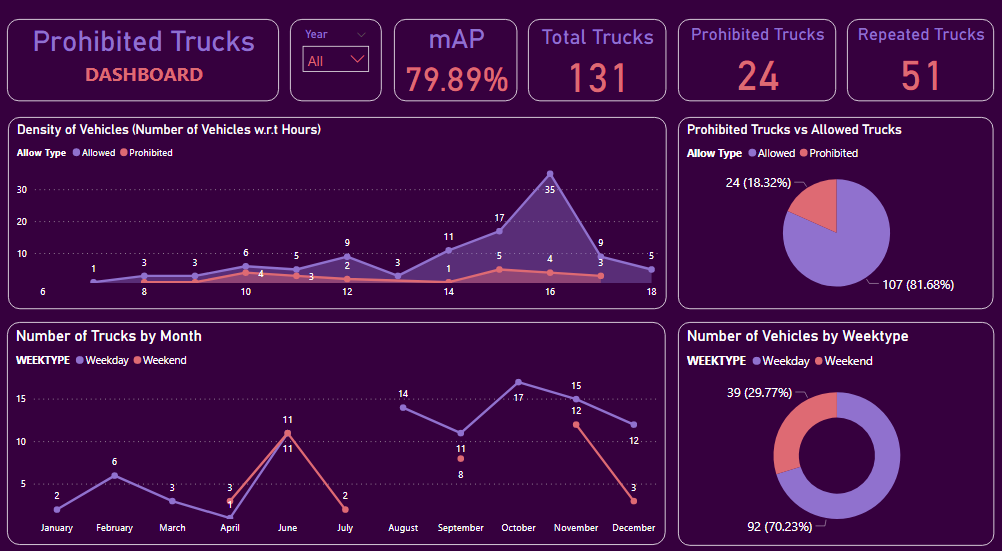

What the dashboard file says about the page in this screenshot:
{"tool":"powerbi","page":{"name":"Prohibited Trucks","canvas":[1280,720],"ordinal":2},"visuals":[{"type":"card","title":"Total Trucks","fields":{"Values":["CountNonNull(TRUCK.Vehicle Type)"]},"box":[675.4,32.9,174.5,103.7],"z":0},{"type":"card","title":"mAP","fields":{"Values":["Avg(TRUCK.Precision)"]},"box":[505.9,32.9,155.6,103.7],"z":1000},{"type":"card","title":"Prohibited Trucks","fields":{"Values":["CountNonNull(TRUCK.Allow Type)"]},"box":[865.1,32.9,199.8,103.7],"z":2000},{"type":"card","title":"Repeated Trucks","fields":{"Values":["TRUCK.Count of Vehicle I.D minus Count of Vehicle I.D"]},"box":[1078.9,32.9,185.9,103.7],"z":3000},{"type":"textbox","title":"Prohibited Trucks","box":[16.4,32.9,344,103.7],"z":4000},{"type":"donutChart","title":"Number of Vehicles by Weektype","fields":{"Category":["TRUCK.WEEKTYPE"],"Y":["CountNonNull(TRUCK.Vehicle Type)"]},"box":[865.2,416.3,400,283],"z":5000},{"type":"pieChart","title":"Prohibited Trucks vs Allowed Trucks","fields":{"Category":["TRUCK.Allow Type"],"Y":["CountNonNull(TRUCK.Vehicle Type)"]},"box":[865.2,157,398.5,243],"z":6000},{"type":"lineChart","title":"Number of Trucks by Month","fields":{"Category":["TRUCK.Date.Variation.Date Hierarchy.Month"],"Series":["TRUCK.WEEKTYPE"],"Y":["CountNonNull(TRUCK.Vehicle Type)"]},"box":[16.1,416.5,833.1,282.5],"z":7000},{"type":"areaChart","title":"Density of Vehicles (Number of Vehicles w.r.t Hours)","fields":{"Category":["TRUCK.Hr"],"Y":["CountNonNull(TRUCK.Vehicle Type)"],"Series":["TRUCK.Allow Type"]},"box":[17.8,157,832.6,243],"z":8000},{"type":"slicer","fields":{"Values":["TRUCK.Date.Variation.Date Hierarchy.Year"]},"box":[374.8,32.6,115.6,103.7],"z":9000}]}

Visuals, with their boxes in screenshot pixels (x1, y1, x2, y2), scaled from the page's 1280x720 canvas onto the 1002x551 screenshot:
"Total Trucks" card: BBox(529, 25, 665, 105)
"mAP" card: BBox(396, 25, 518, 105)
"Prohibited Trucks" card: BBox(677, 25, 834, 105)
"Repeated Trucks" card: BBox(845, 25, 990, 105)
"Prohibited Trucks" textbox: BBox(13, 25, 282, 105)
"Number of Vehicles by Weektype" donutChart: BBox(677, 319, 990, 535)
"Prohibited Trucks vs Allowed Trucks" pieChart: BBox(677, 120, 989, 306)
"Number of Trucks by Month" lineChart: BBox(13, 319, 665, 535)
"Density of Vehicles (Number of Vehicles w.r.t Hours)" areaChart: BBox(14, 120, 666, 306)
slicer - TRUCK.Date.Variation.Date Hierarchy.Year: BBox(293, 25, 384, 104)
